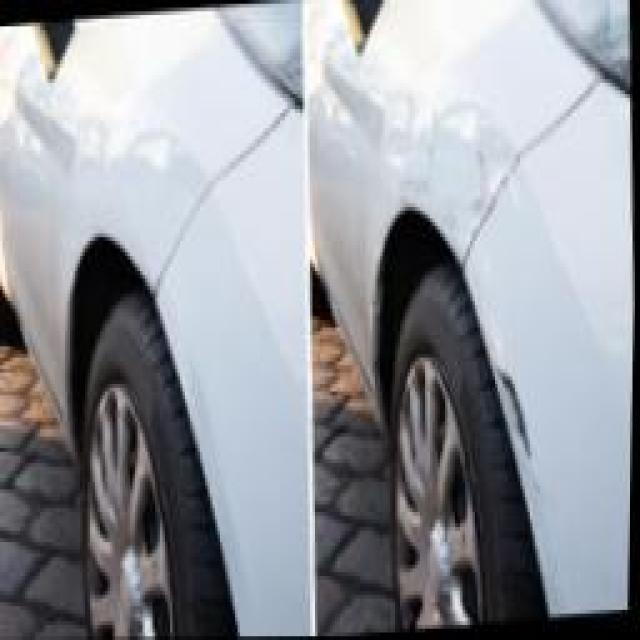Fender: (478, 230, 604, 506)
